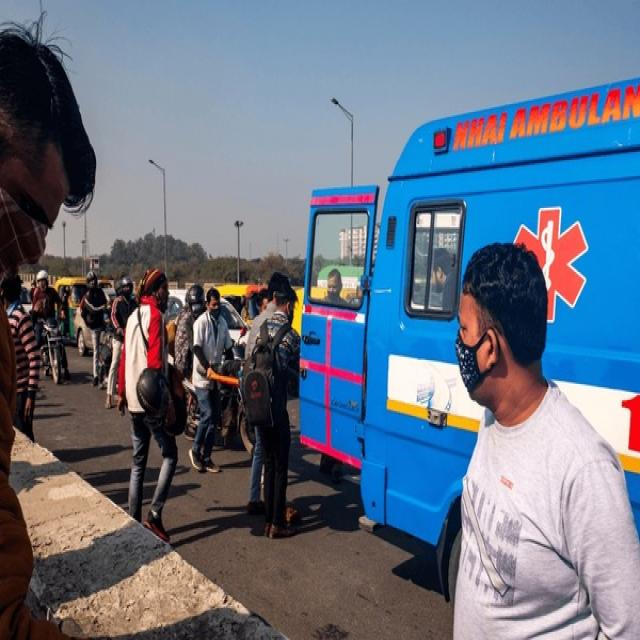emergency: (300, 77, 640, 599)
motorcycle: (31, 270, 70, 383)
